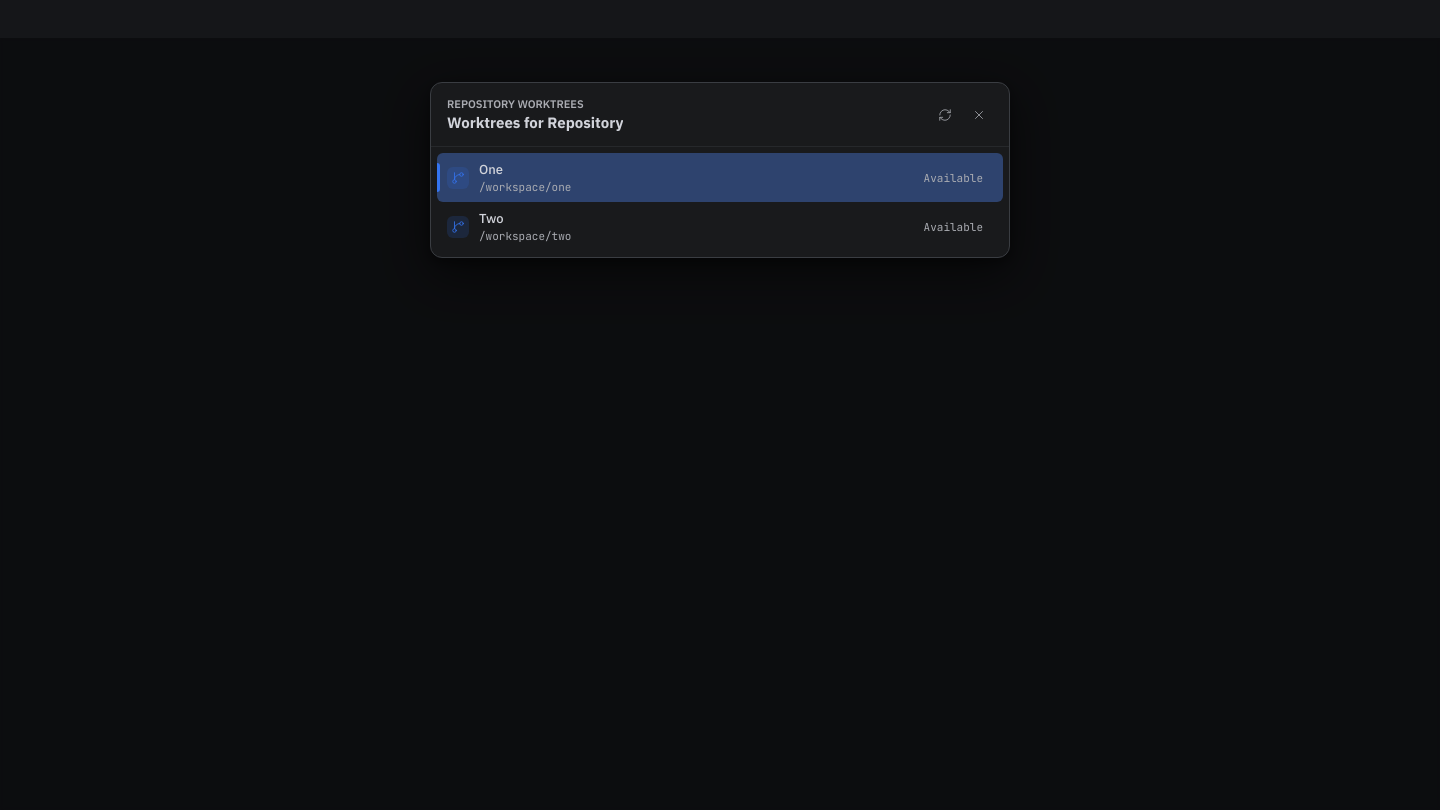
Test: WorktreePicker › copies a worktree path from the row context menu
Right-click the option "Two /workspace/two Available" at (525, 236), box x1=437 y1=202 x2=1003 y2=251
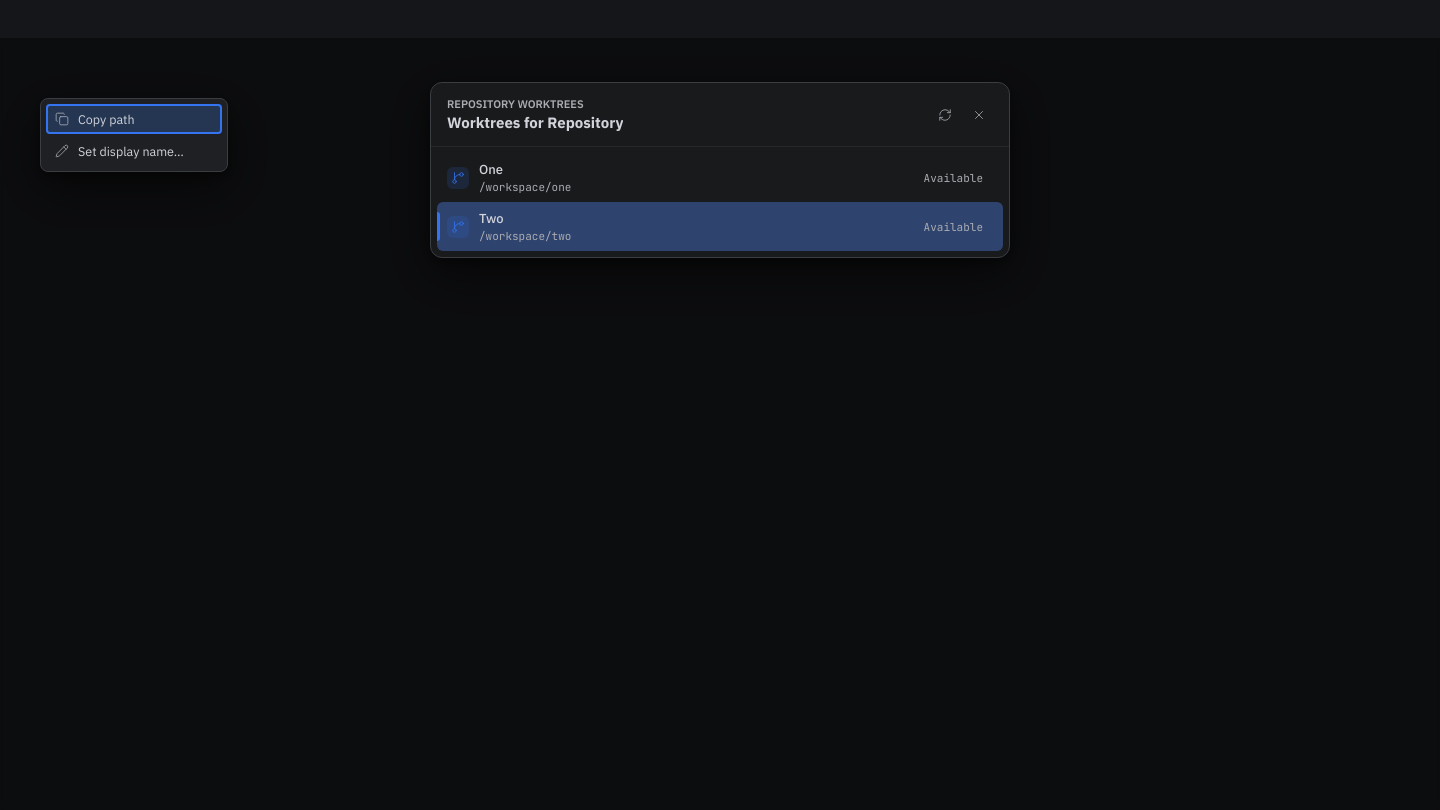
Click the menu item "Copy path" at (134, 119), box x1=46 y1=104 x2=222 y2=134
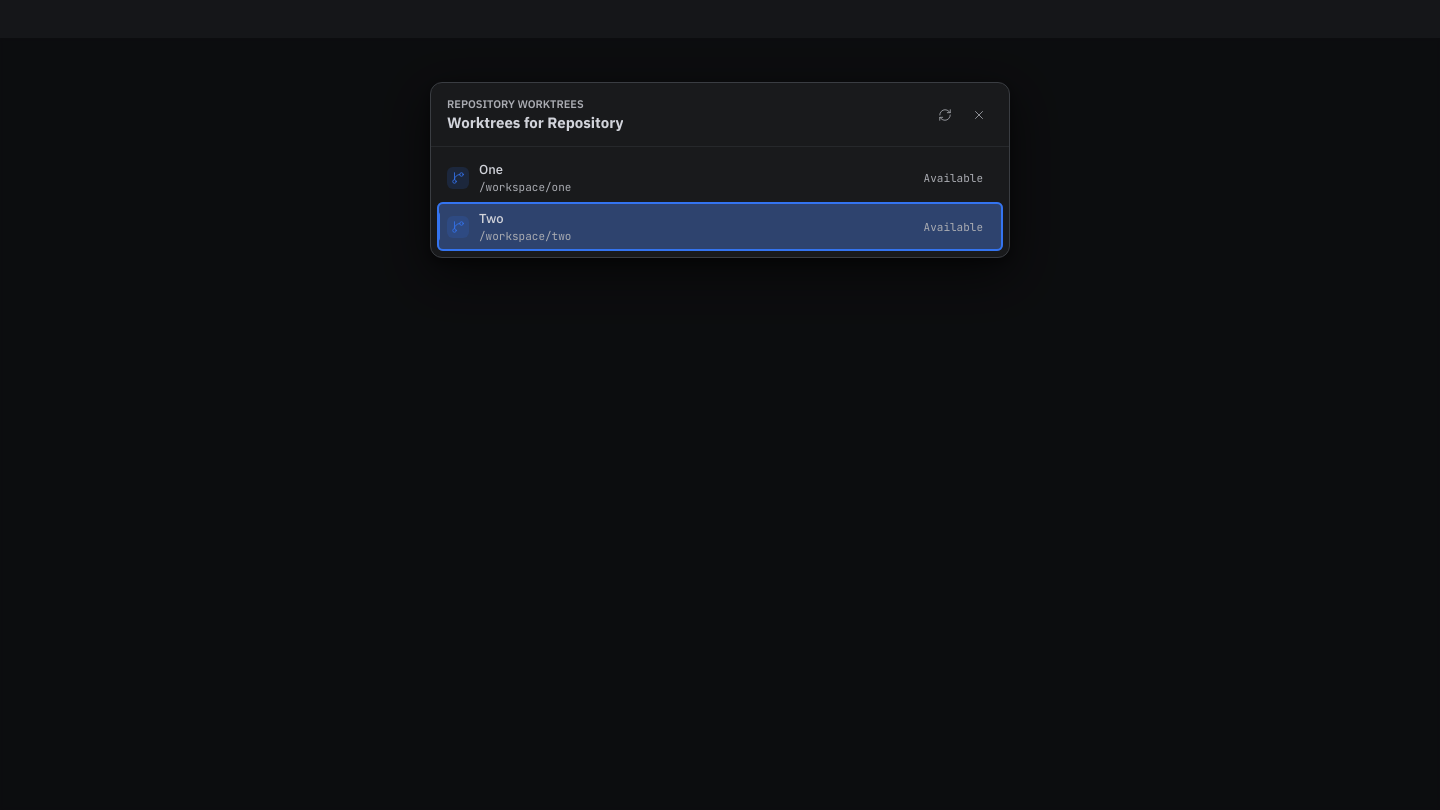
Now the menu is gone
